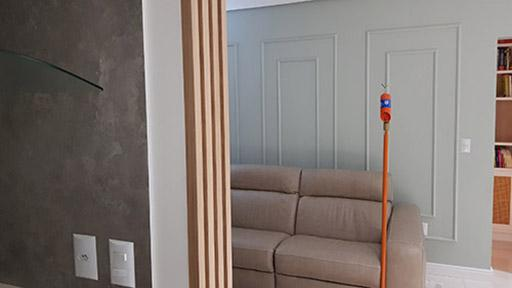Detector_Tensao_Contato: (378, 82, 392, 123)
Vara_Manobra: (378, 121, 390, 288)
